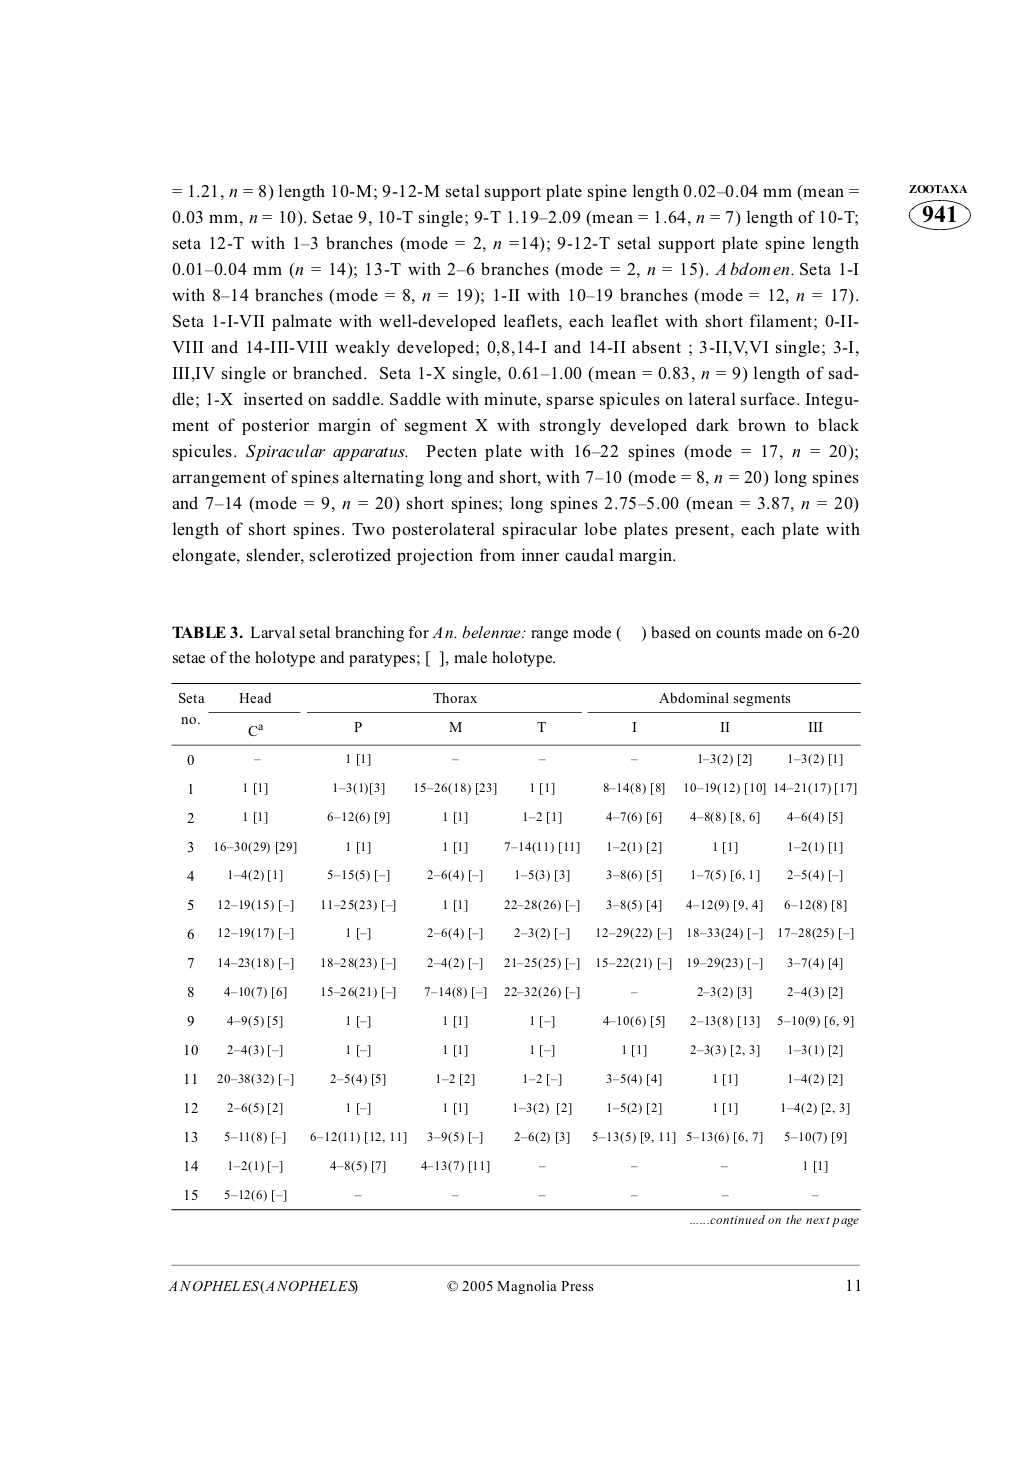Table: (171, 683, 860, 1210)
figure: (908, 185, 970, 229)
